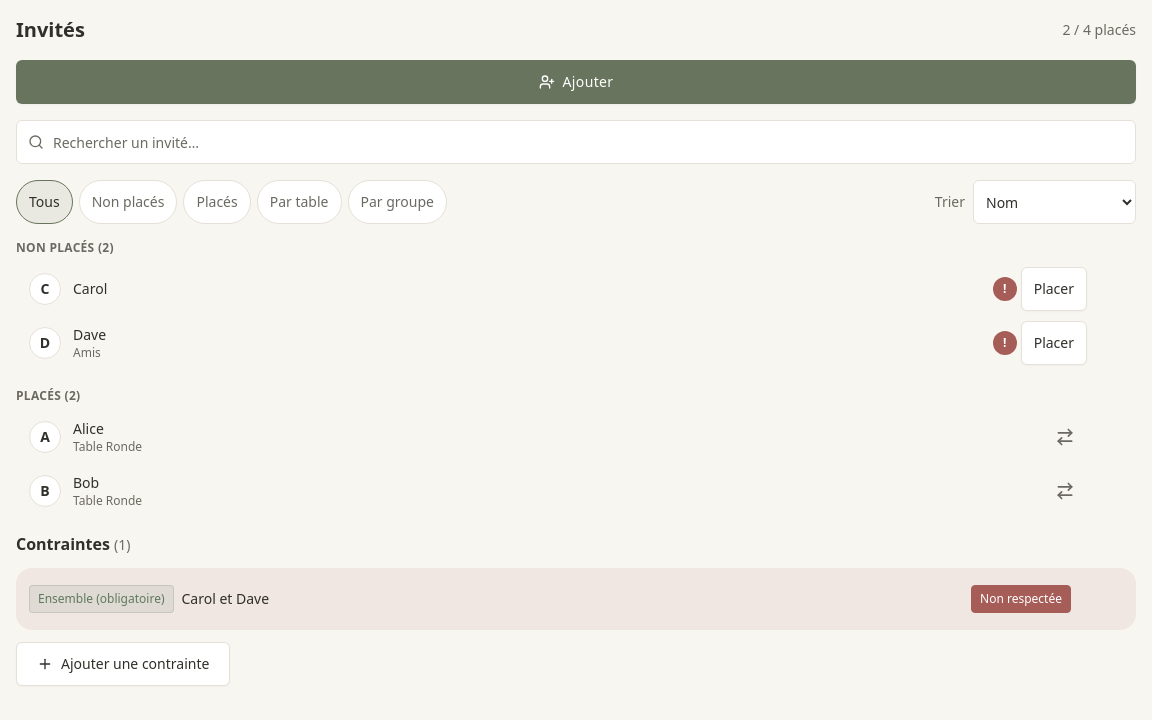
GuestListPanel › resets to the full list via the "Tous" chip
Click the button "Non placés": (128, 202) x1=79 y1=180 x2=177 y2=224
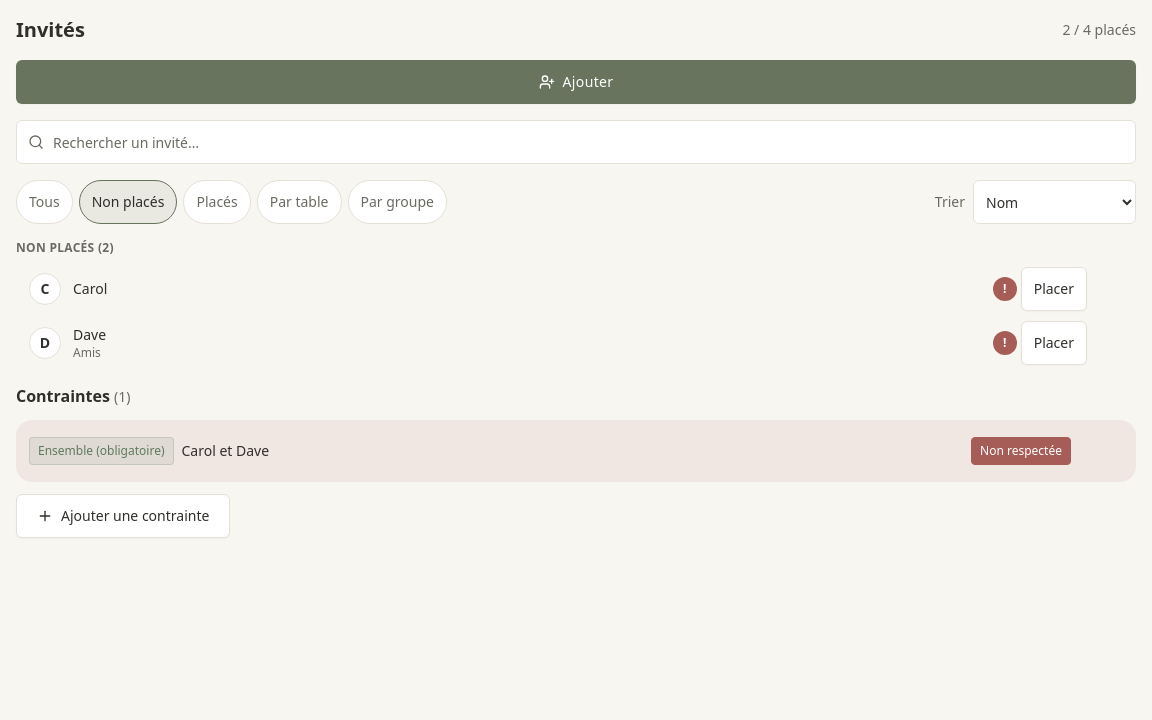
Check: the button "Alice" is gone
Click the button "Tous": (44, 202) x1=16 y1=180 x2=73 y2=224
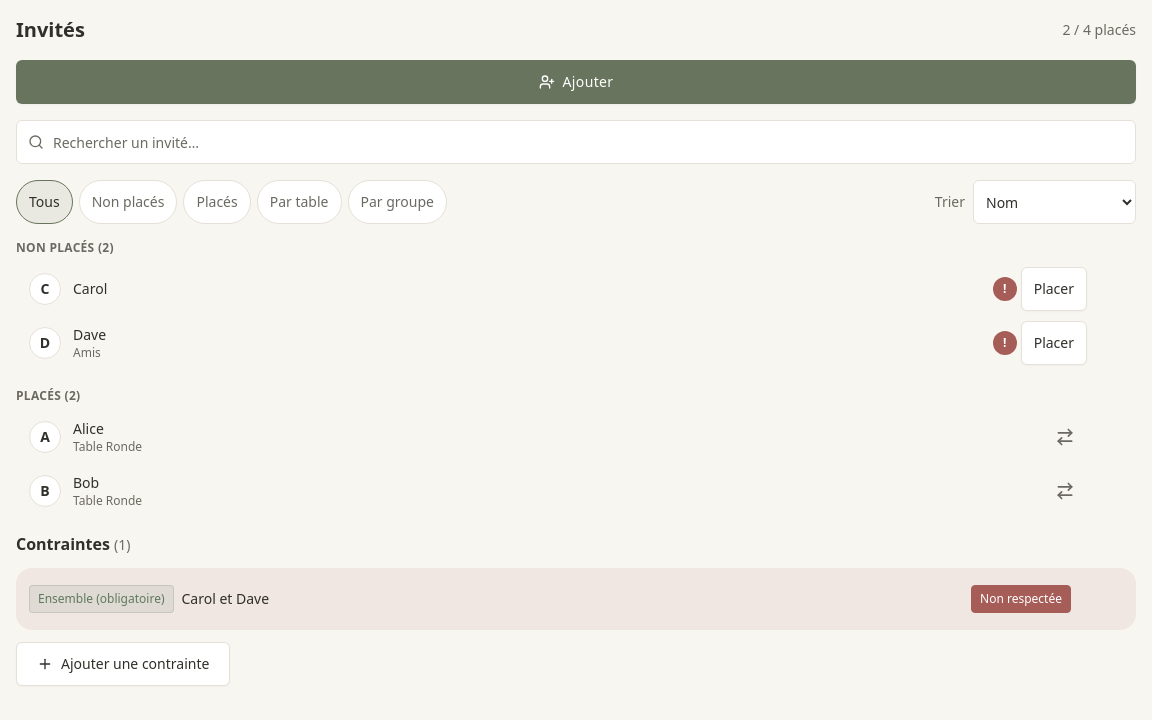
Check: the button "C Carol" is shown, box x1=17 y1=265 x2=989 y2=313
Check: the button "A Alice Table Ronde" is shown, box x1=17 y1=413 x2=1039 y2=461
